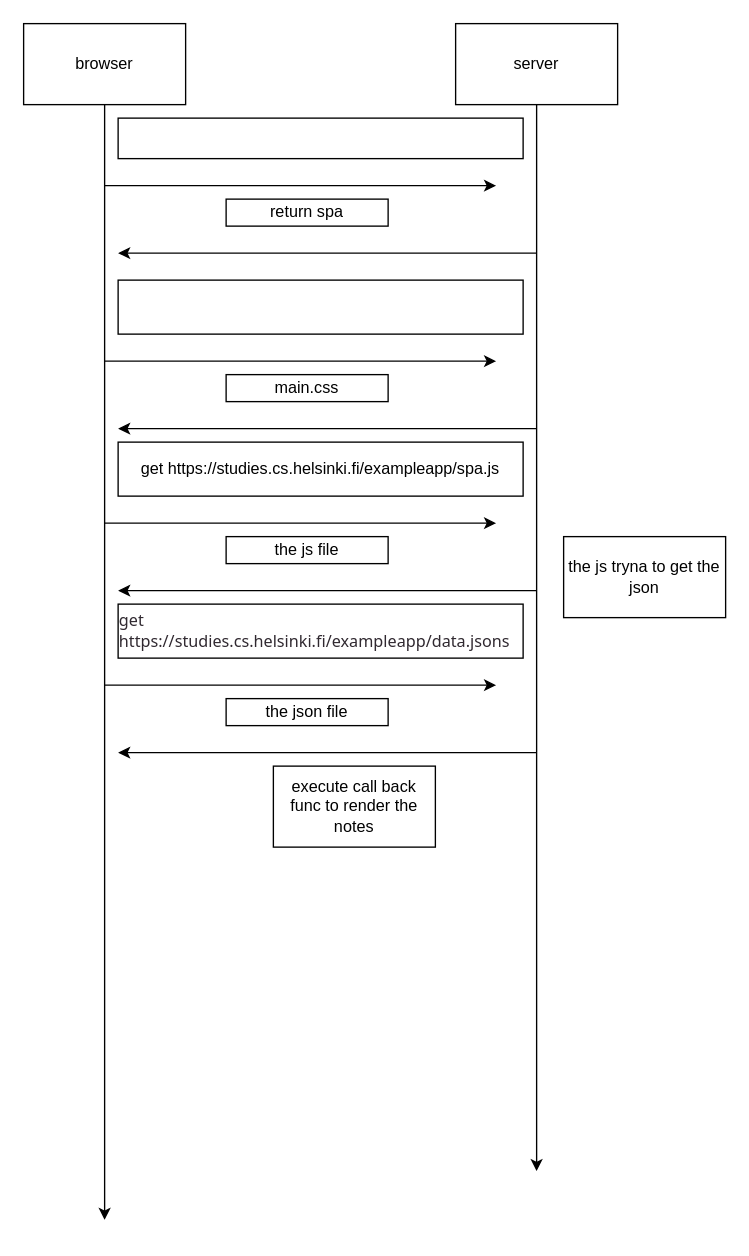
Some shapes in this 749 by 1256 pixel diagram are drawn without their labels. The box of each missing label's shape, as (x1, y1, x2, y2) in pixels:
get https://studies.cs.helsinki.fi/exampleapp/main.css: (117, 279, 523, 334)
get https://studies.cs.helsinki.fi/exampleapp/spa: (117, 117, 523, 159)
